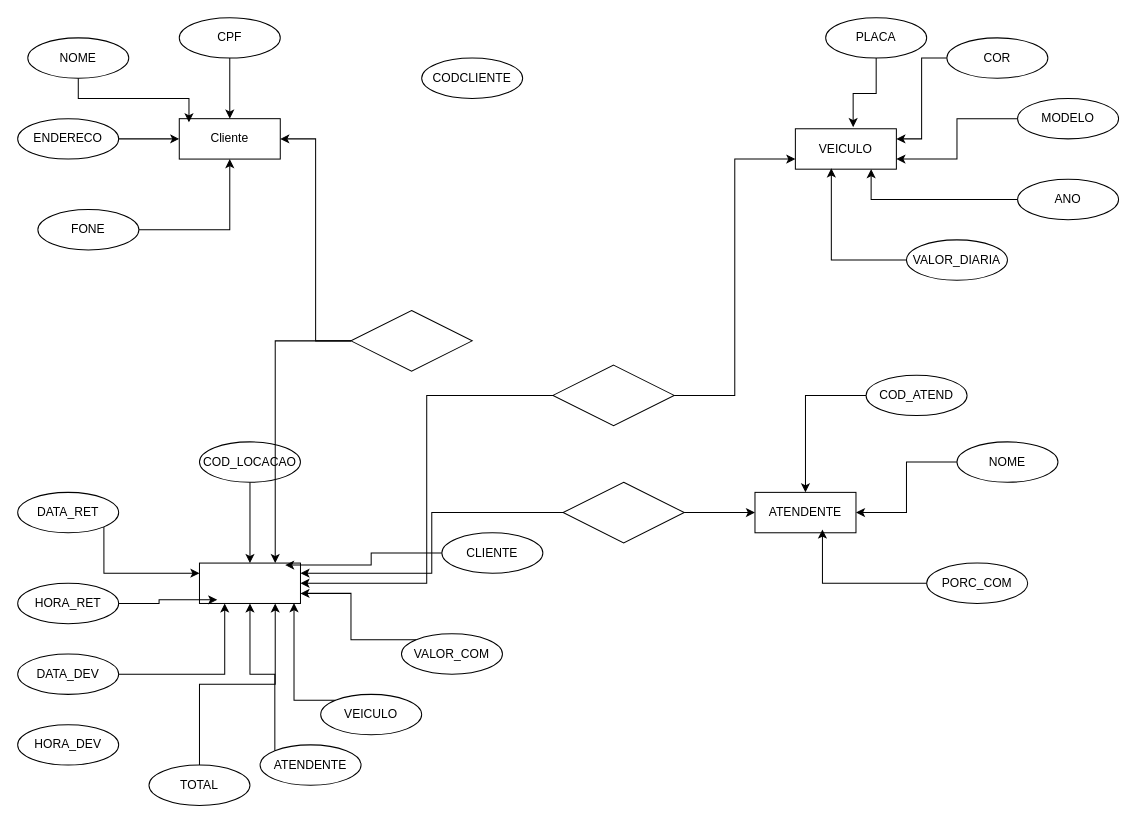
Some shapes in this 1136 by 823 pixel diagram are drawn without their labels. Each missing label, with the centre of its shape:
"ALUGA" goes at point 411,340.
"LOCAÇÃO" goes at point 249,582.
"PERTENCE" goes at point 613,395.
"REALIZA" goes at point 623,512.
